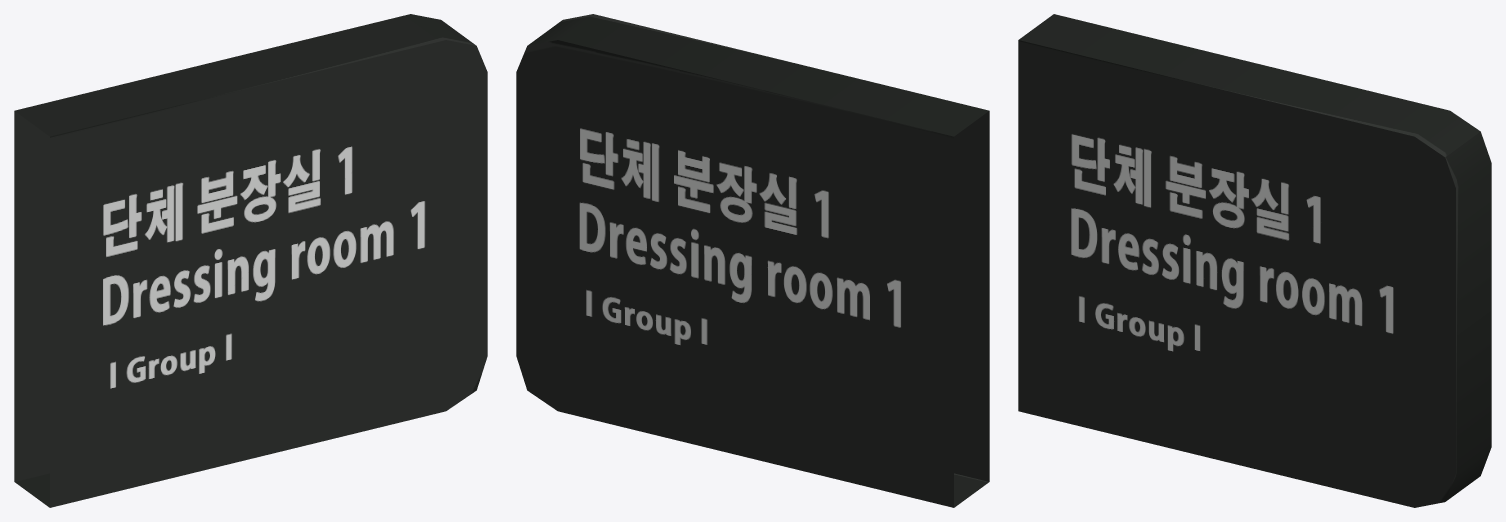
The model's file is notice.fbx.
3 views of the same model, side by side, from view 1: azimuth 30°, elevation 25°; view 2: azimuth 150°, elevation 25°; view 3: azimuth 330°, elevation 25° (orthographic).
Visible parts, largest first — view 1: Box001; view 2: Box001; view 3: Box001.
Part boxes in pixels (left/top/right/bottom): Box001: left=14, top=14, right=487, bottom=507; Box001: left=516, top=14, right=989, bottom=507; Box001: left=1018, top=14, right=1491, bottom=507.
Size of the model in its own units: 56.1 by 45.49 by 7.88.
